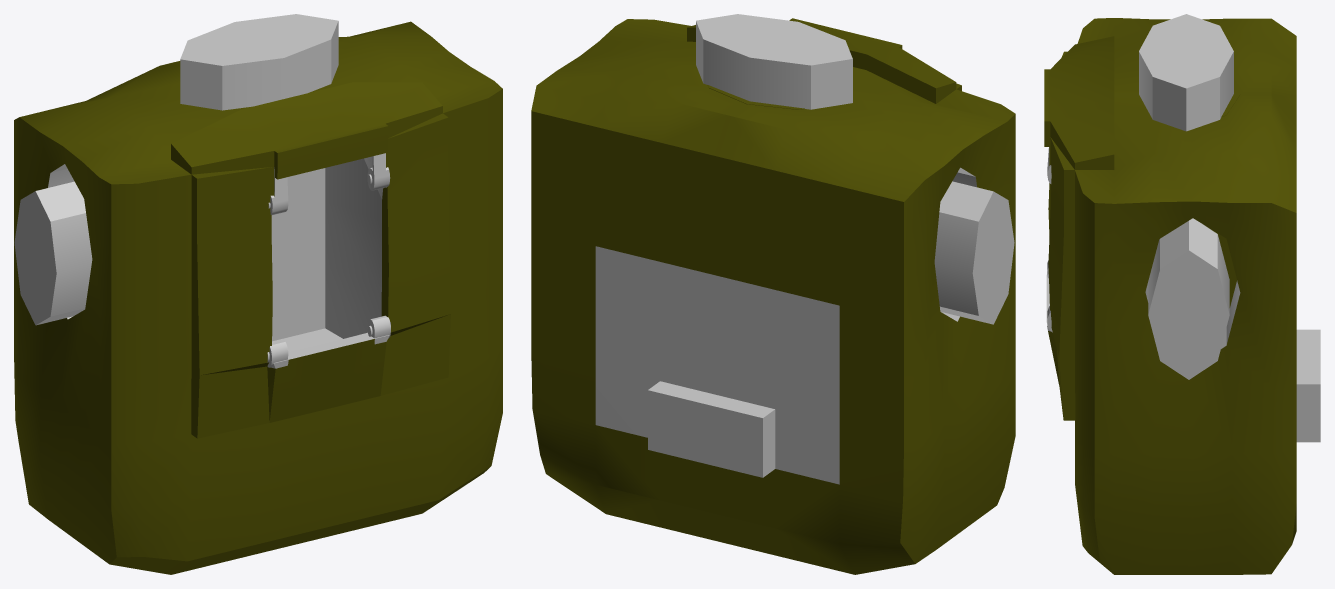
Rendered from spine.obj.
3 renders of one model, left to right at view 1: azimuth 30°, elevation 25°; view 2: azimuth 150°, elevation 25°; view 3: azimuth 270°, elevation 25°, orthographic. The views are drawn at different scales.
Parts seen in each view (by area): view 1: 2_Core_Cube.016; view 2: 2_Core_Cube.016; view 3: 2_Core_Cube.016.
Boxes of the visible parts, left/top/right/bottom form: 2_Core_Cube.016: left=14, top=14, right=502, bottom=574; 2_Core_Cube.016: left=531, top=14, right=1015, bottom=574; 2_Core_Cube.016: left=1044, top=14, right=1320, bottom=574.
Size of the model in its own units: 3.14 by 3.21 by 1.75.
